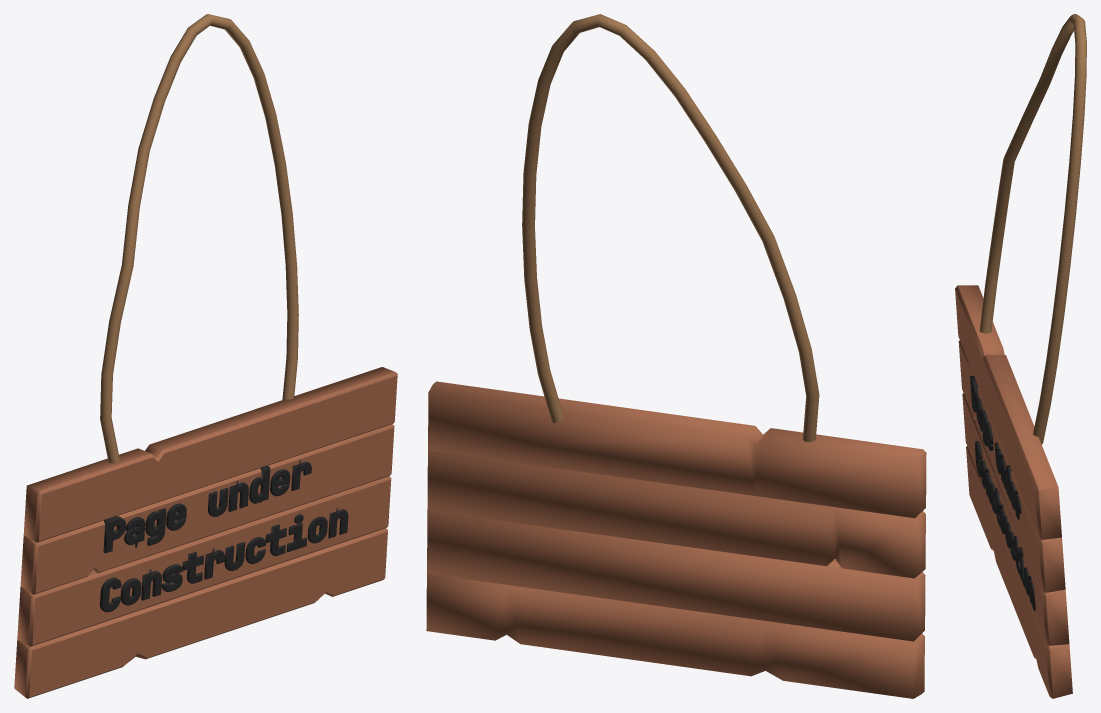
File: under-contruction-sign.glb
3 views of the same model, side by side, from view 1: azimuth 30°, elevation 25°; view 2: azimuth 150°, elevation 25°; view 3: azimuth 270°, elevation 25° (orthographic). The views are drawn at different scales.
Parts seen in each view (by area): view 1: table_long, Rope, Text; view 2: table_long, Rope; view 3: table_long, Rope, Text.
Part boxes in pixels (box(x1,y1,x2,y2)): table_long: box(14, 367, 397, 698); Rope: box(100, 14, 298, 463); Text: box(100, 459, 348, 612); table_long: box(426, 381, 926, 698); Rope: box(522, 14, 819, 441); table_long: box(955, 285, 1072, 698); Rope: box(979, 14, 1086, 444); Text: box(970, 375, 1035, 611).
Bounding box in the file's own units: 1.37 × 1.91 × 0.3805.
